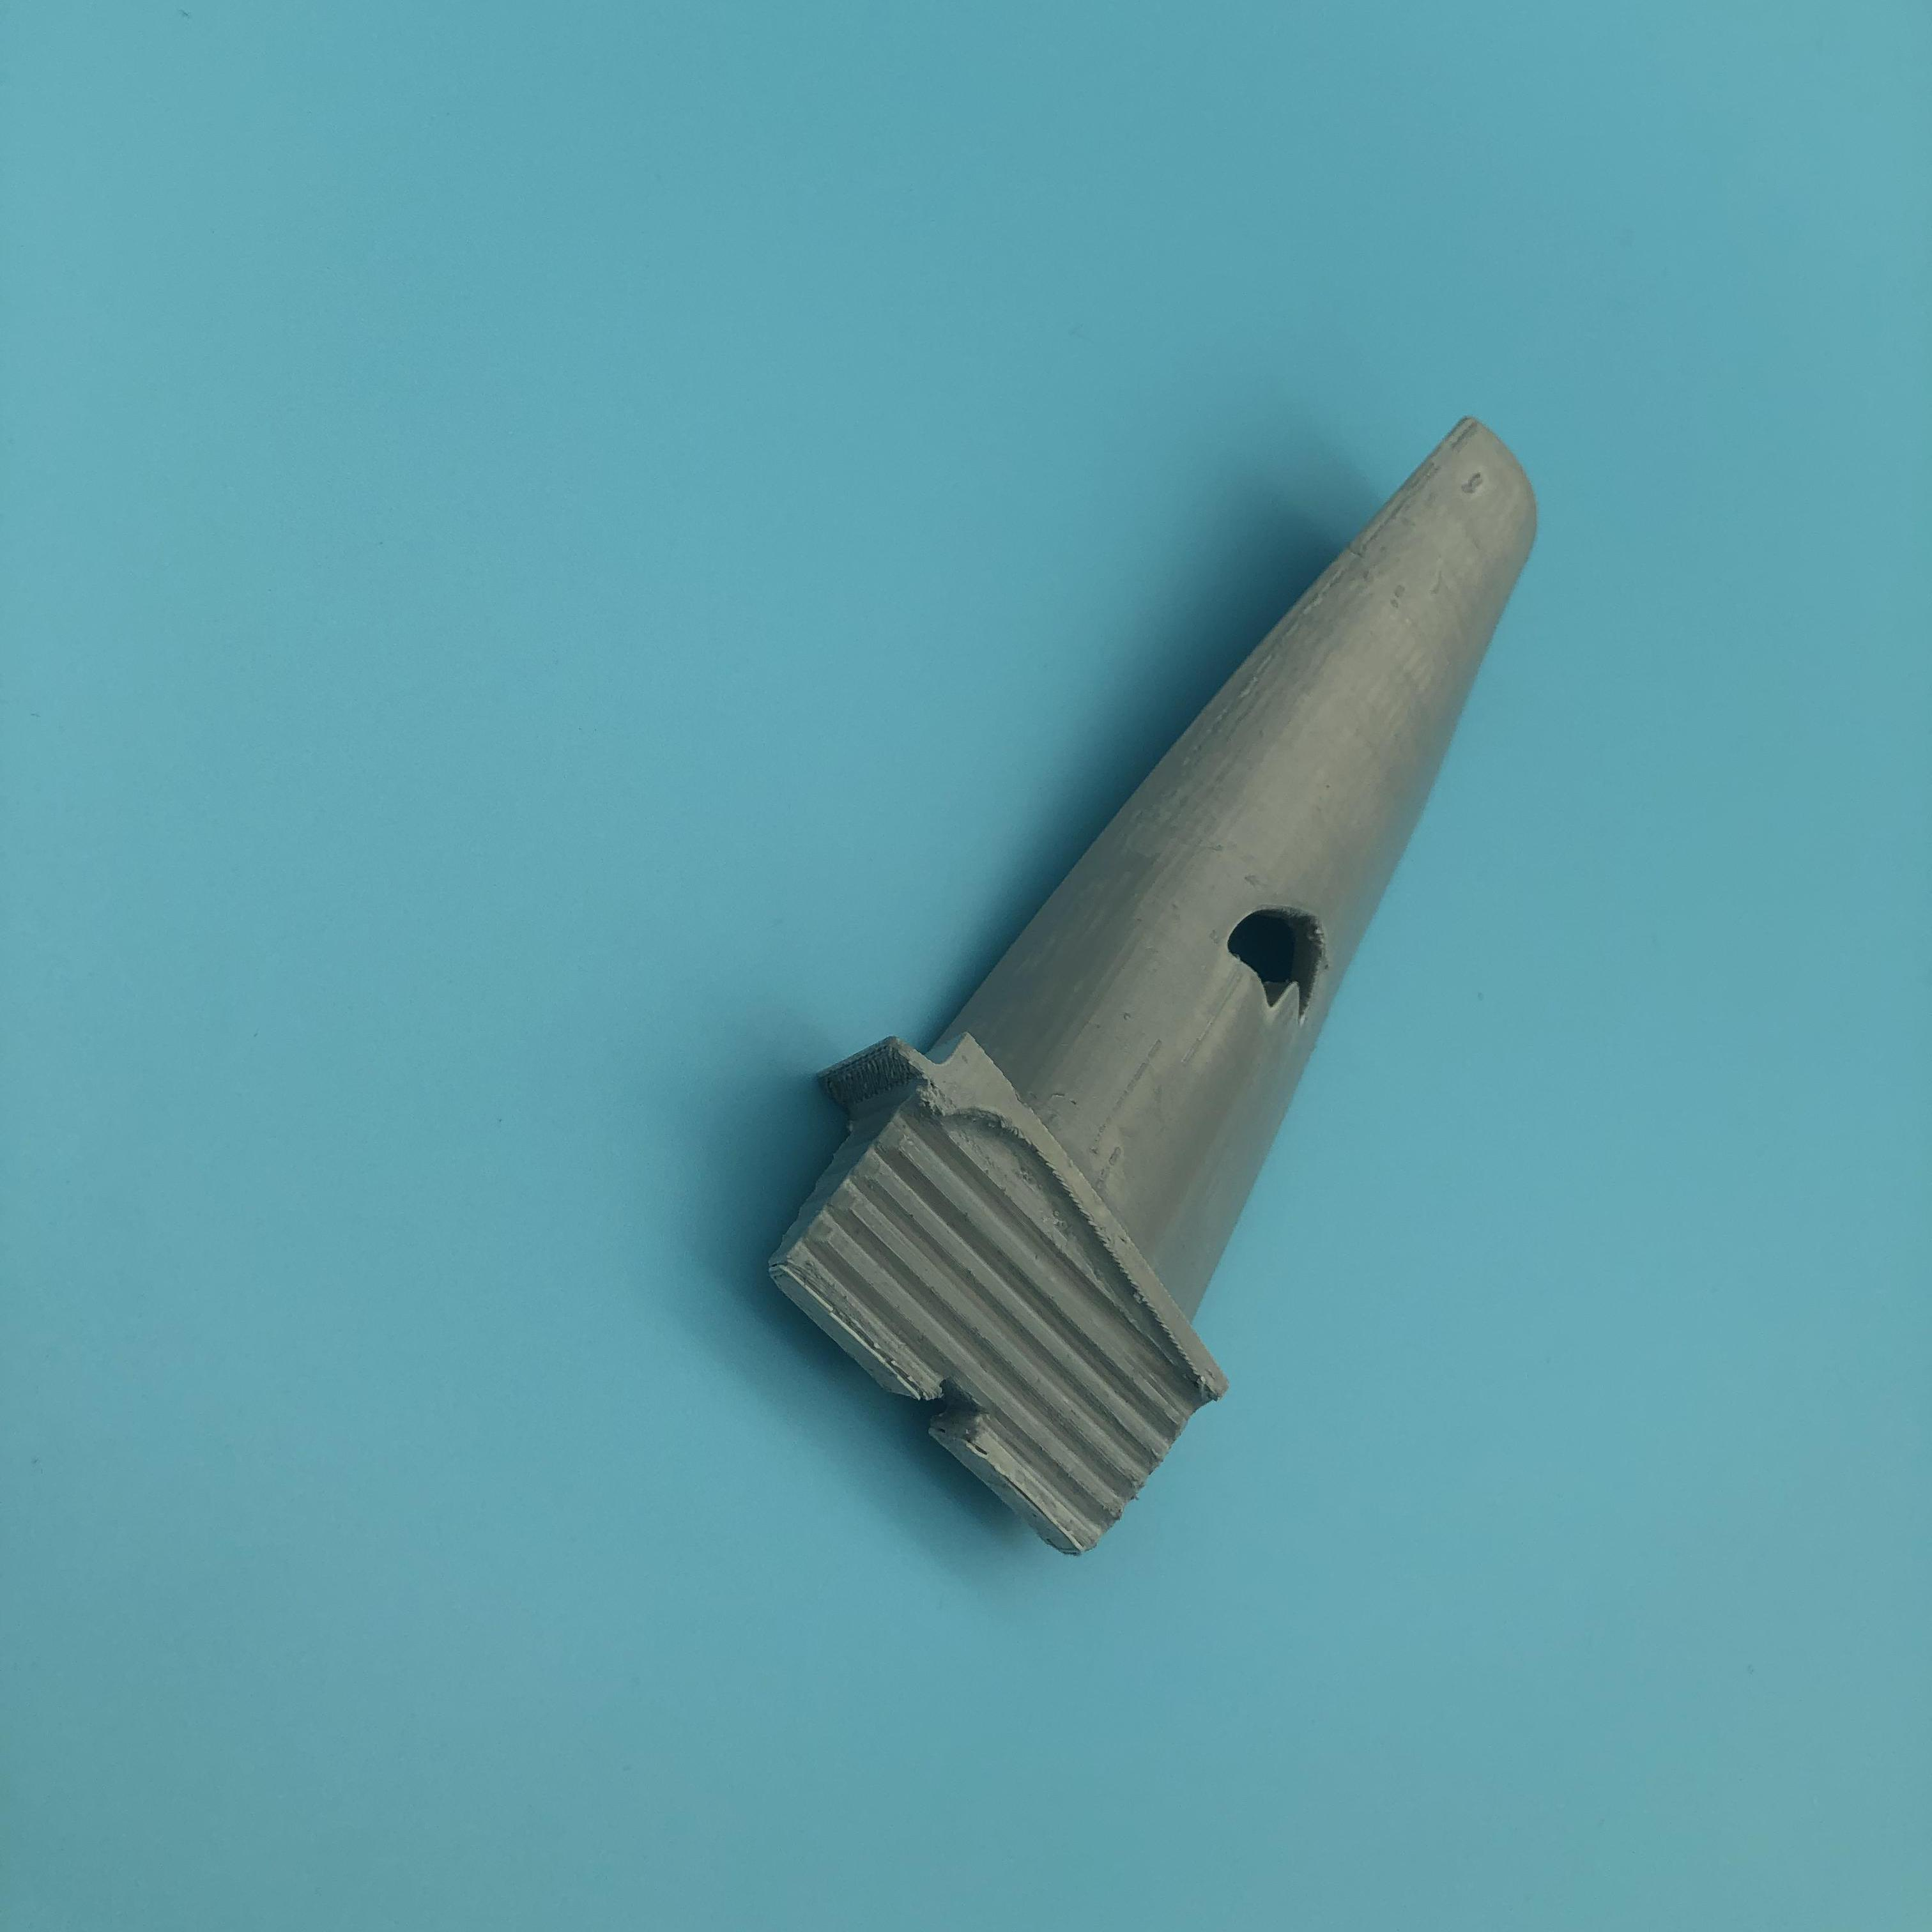breakdown: (1221, 906, 1330, 1031)
